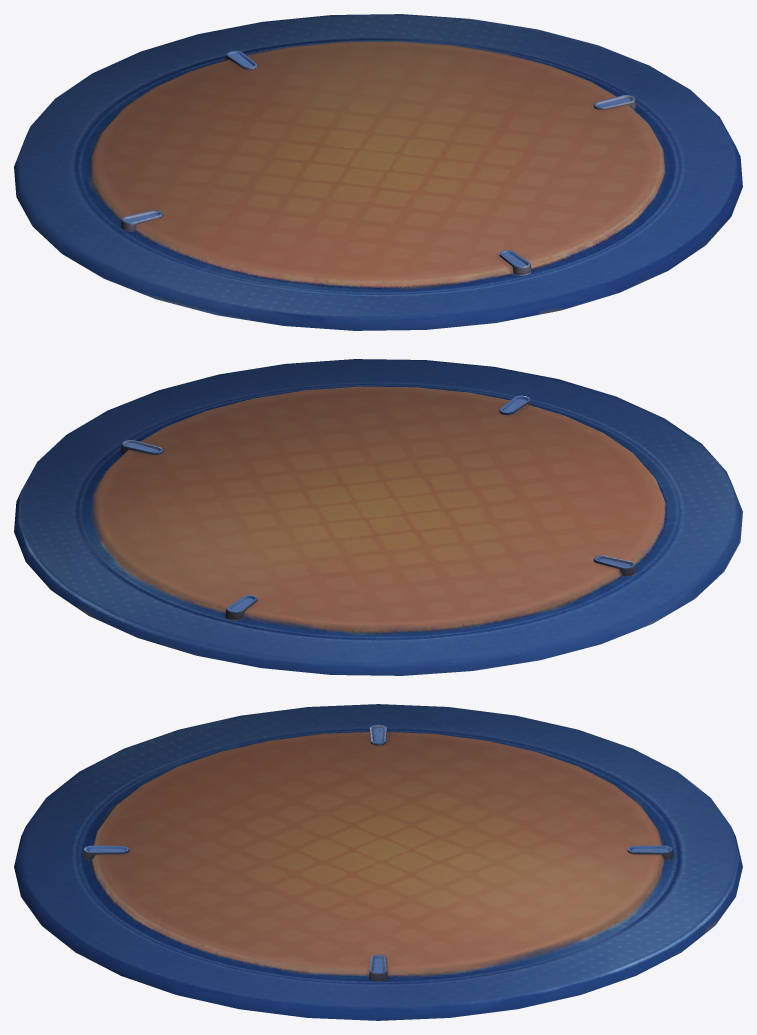
The model's file is pref_fx_WSJ_NeutralScoreArea03_orange_floor_lv1.fbx.
3 views of the same model, one above another, from view 1: azimuth 30°, elevation 25°; view 2: azimuth 150°, elevation 25°; view 3: azimuth 270°, elevation 25° (orthographic).
Parts seen in each view (by area): view 1: sm_prop_platform06a_lv1; view 2: sm_prop_platform06a_lv1; view 3: sm_prop_platform06a_lv1.
Part boxes in pixels (box(x1,y1,x2,y2)): sm_prop_platform06a_lv1: box(14, 14, 742, 330); sm_prop_platform06a_lv1: box(14, 359, 742, 675); sm_prop_platform06a_lv1: box(14, 704, 742, 1020).
Size of the model in its own units: 7.46 by 0.2009 by 7.46.
